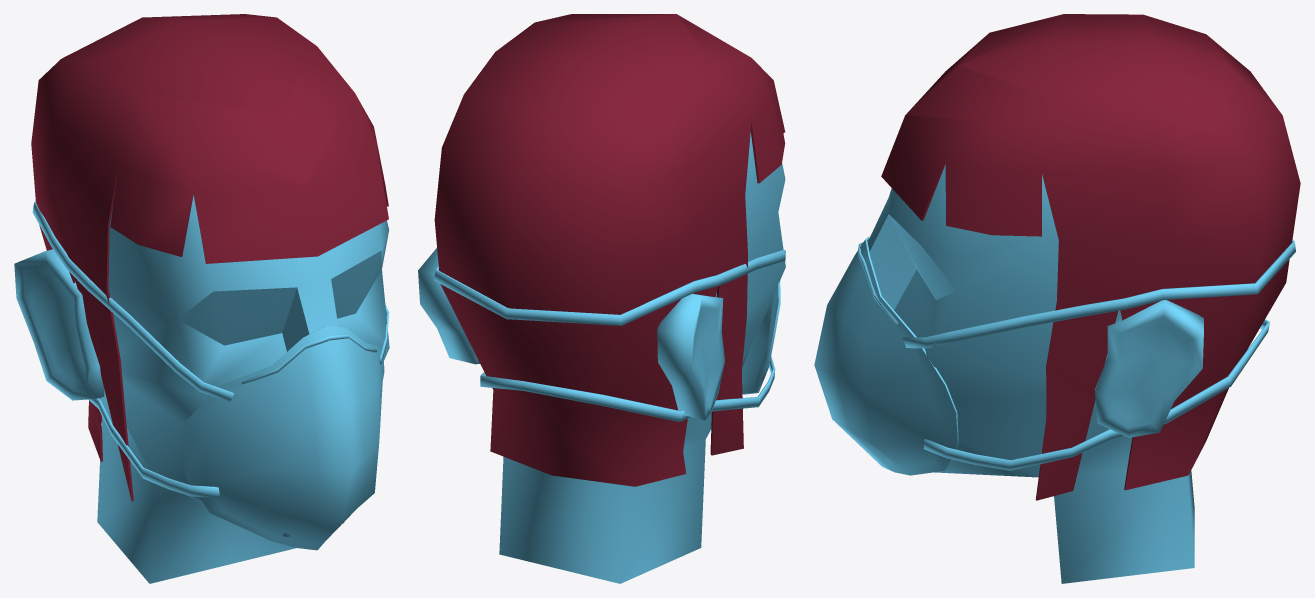
Rendered from headMaskFemale_Good.FBX.
The picture shows the model from 3 angles, left to right: view 1: azimuth 30°, elevation 25°; view 2: azimuth 150°, elevation 25°; view 3: azimuth 270°, elevation 25°; orthographic projection. The views are drawn at different scales.
Parts seen in each view (by area): view 1: hairFemale, head, maskN95_onHead, ear, strapGoodTop, strapGoodBottom, nosePincherOn Face; view 2: hairFemale, head, ear, strapGoodTop, strapGoodBottom, maskN95_onHead; view 3: hairFemale, head, maskN95_onHead, ear, strapGoodTop, strapGoodBottom.
Boxes of the visible parts, <box> form: hairFemale: <box>31,14,388,501</box>; head: <box>97,195,389,583</box>; maskN95_onHead: <box>181,326,384,550</box>; ear: <box>14,249,104,400</box>; strapGoodTop: <box>32,201,389,402</box>; strapGoodBottom: <box>88,398,220,498</box>; nosePincherOn Face: <box>241,334,377,385</box>; hairFemale: <box>434,14,785,486</box>; head: <box>499,132,785,583</box>; ear: <box>418,248,724,420</box>; strapGoodTop: <box>434,249,785,325</box>; strapGoodBottom: <box>480,356,775,421</box>; maskN95_onHead: <box>742,281,780,394</box>; hairFemale: <box>881,14,1300,500</box>; head: <box>867,164,1194,583</box>; maskN95_onHead: <box>814,236,958,475</box>; ear: <box>1095,300,1203,437</box>; strapGoodTop: <box>903,239,1295,348</box>; strapGoodBottom: <box>924,319,1269,470</box>.
Size of the model in its own units: 14.19 by 24.76 by 21.64.
